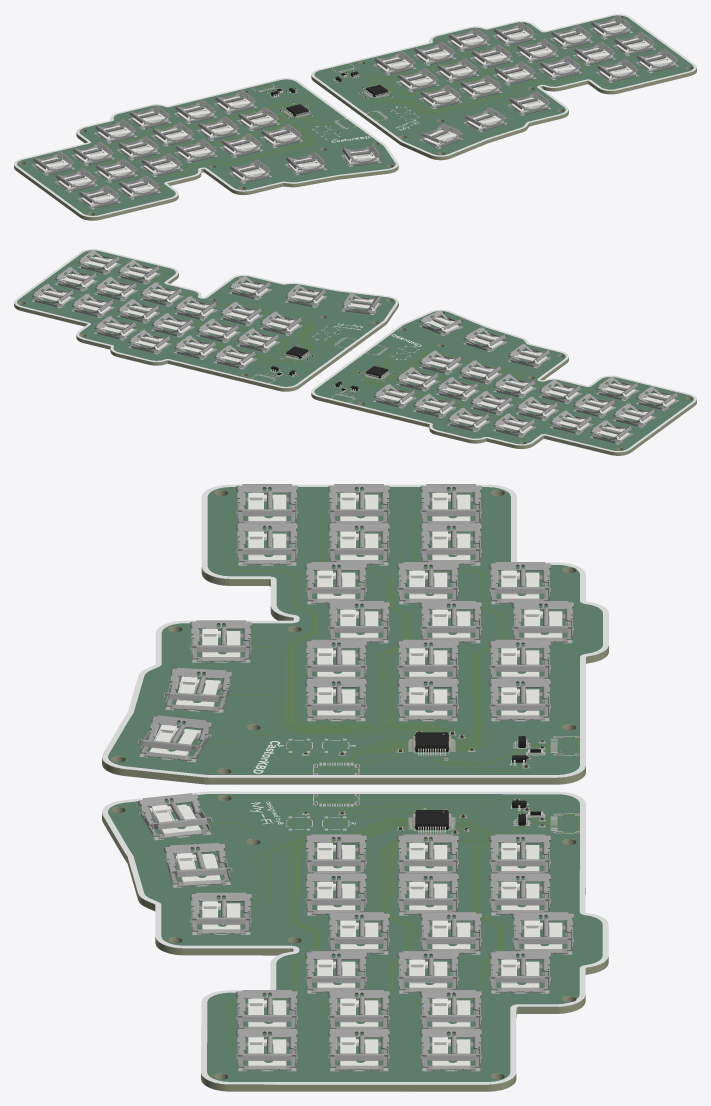
3 renders of one model, top to bottom at view 1: azimuth 30°, elevation 25°; view 2: azimuth 150°, elevation 25°; view 3: azimuth 270°, elevation 25°, orthographic. The views are drawn at different scales.
Visible parts, largest first — view 1: =>[0:1:1:27], =>[0:1:1:30], =>[0:1:1:29], =>[0:1:1:25], =>[0:1:1:23]; view 2: =>[0:1:1:27], =>[0:1:1:30], =>[0:1:1:29], =>[0:1:1:25], =>[0:1:1:23]; view 3: =>[0:1:1:27], =>[0:1:1:29], =>[0:1:1:30], =>[0:1:1:25], =>[0:1:1:22], =>[0:1:1:23].
Part boxes in pixels (x1=…): =>[0:1:1:27]: x1=17, y1=15, x2=693, y2=217; =>[0:1:1:30]: x1=14, y1=80, x2=398, y2=220; =>[0:1:1:29]: x1=311, y1=16, x2=696, y2=159; =>[0:1:1:25]: x1=14, y1=14, x2=696, y2=217; =>[0:1:1:23]: x1=32, y1=28, x2=678, y2=209; =>[0:1:1:27]: x1=15, y1=250, x2=695, y2=451; =>[0:1:1:30]: x1=311, y1=311, x2=696, y2=455; =>[0:1:1:29]: x1=14, y1=251, x2=398, y2=391; =>[0:1:1:25]: x1=14, y1=249, x2=696, y2=452; =>[0:1:1:23]: x1=32, y1=257, x2=678, y2=444; =>[0:1:1:27]: x1=102, y1=487, x2=607, y2=1084; =>[0:1:1:29]: x1=102, y1=794, x2=608, y2=1091; =>[0:1:1:30]: x1=102, y1=487, x2=608, y2=784; =>[0:1:1:25]: x1=102, y1=484, x2=608, y2=1084; =>[0:1:1:22]: x1=228, y1=512, x2=579, y2=1053; =>[0:1:1:23]: x1=139, y1=498, x2=579, y2=1071.
Bounding box in the file's own units: 0.2938 × 0.0052 × 0.105.
